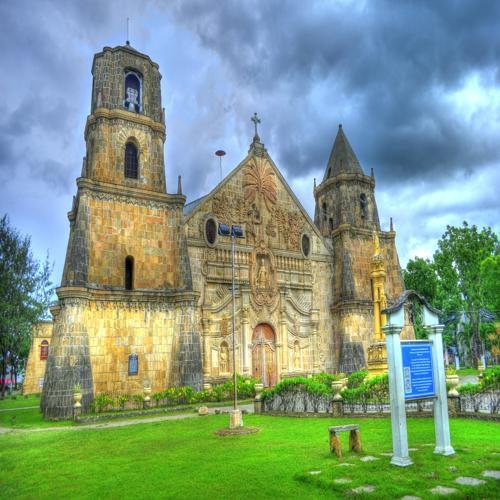Miagao Church: (40, 17, 436, 422)
